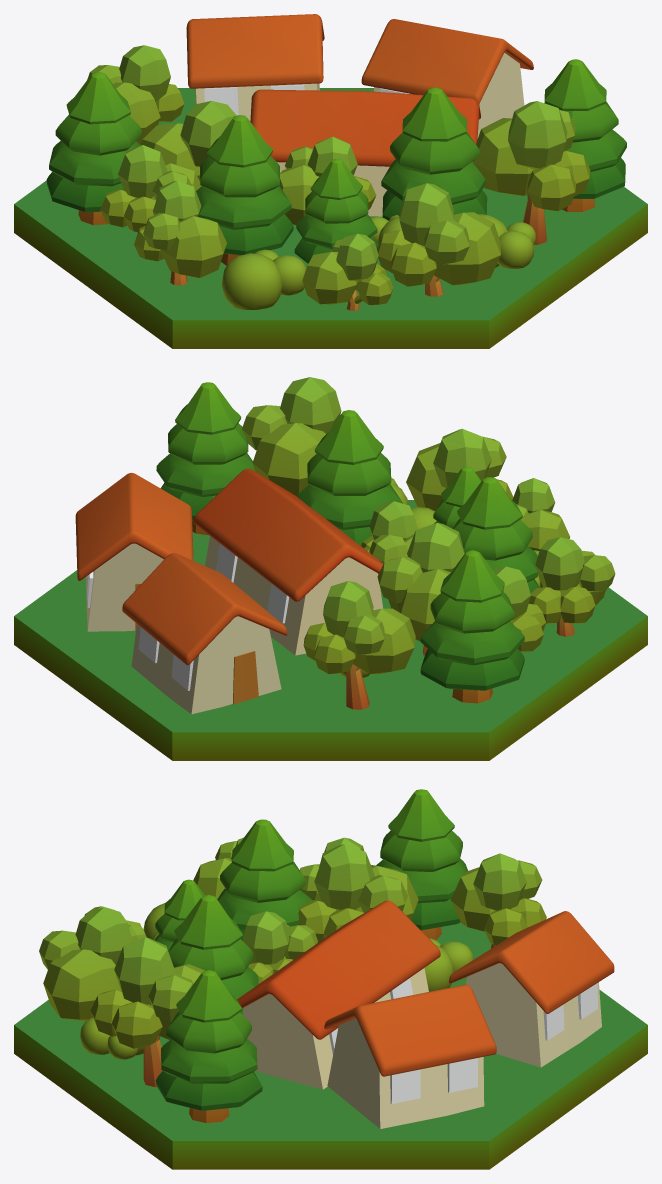
Rendered from hex2.fbx.
The picture shows the model from 3 angles, top to bottom: view 1: azimuth 30°, elevation 25°; view 2: azimuth 150°, elevation 25°; view 3: azimuth 270°, elevation 25°; orthographic projection.
Parts seen in each view (by area): view 1: hex_forest_house; view 2: hex_forest_house; view 3: hex_forest_house.
Part boxes in pixels (<box>): hex_forest_house: <box>14,14,647,348</box>; hex_forest_house: <box>14,377,647,760</box>; hex_forest_house: <box>14,789,647,1169</box>.
Size of the model in its own units: 173 by 62.53 by 200.
